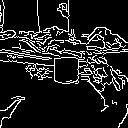cube: (53, 51, 83, 86)
